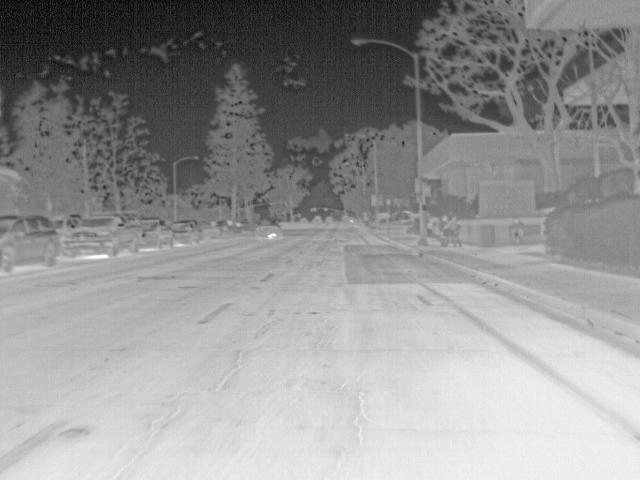car: (0, 214, 63, 274), (62, 212, 139, 257), (122, 218, 176, 250), (175, 218, 204, 246), (254, 221, 282, 240), (201, 221, 220, 239)
person: (508, 216, 526, 244), (438, 214, 451, 246), (449, 216, 461, 248)
